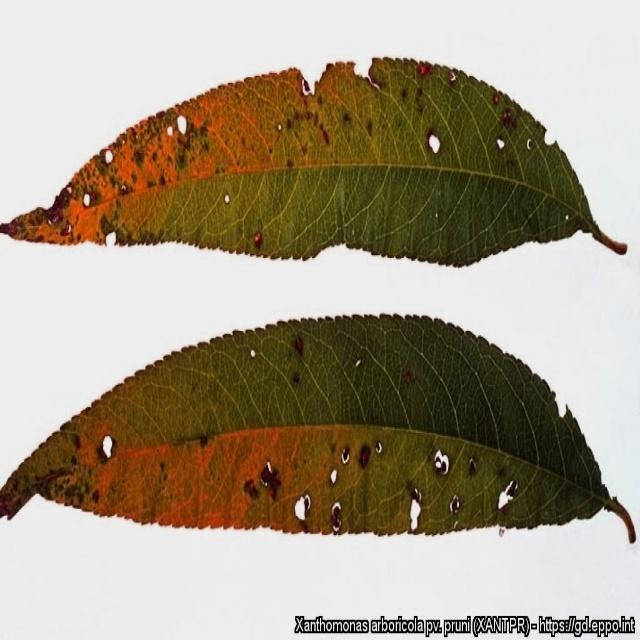shot_hole: (1, 307, 640, 609), (5, 50, 636, 286)
